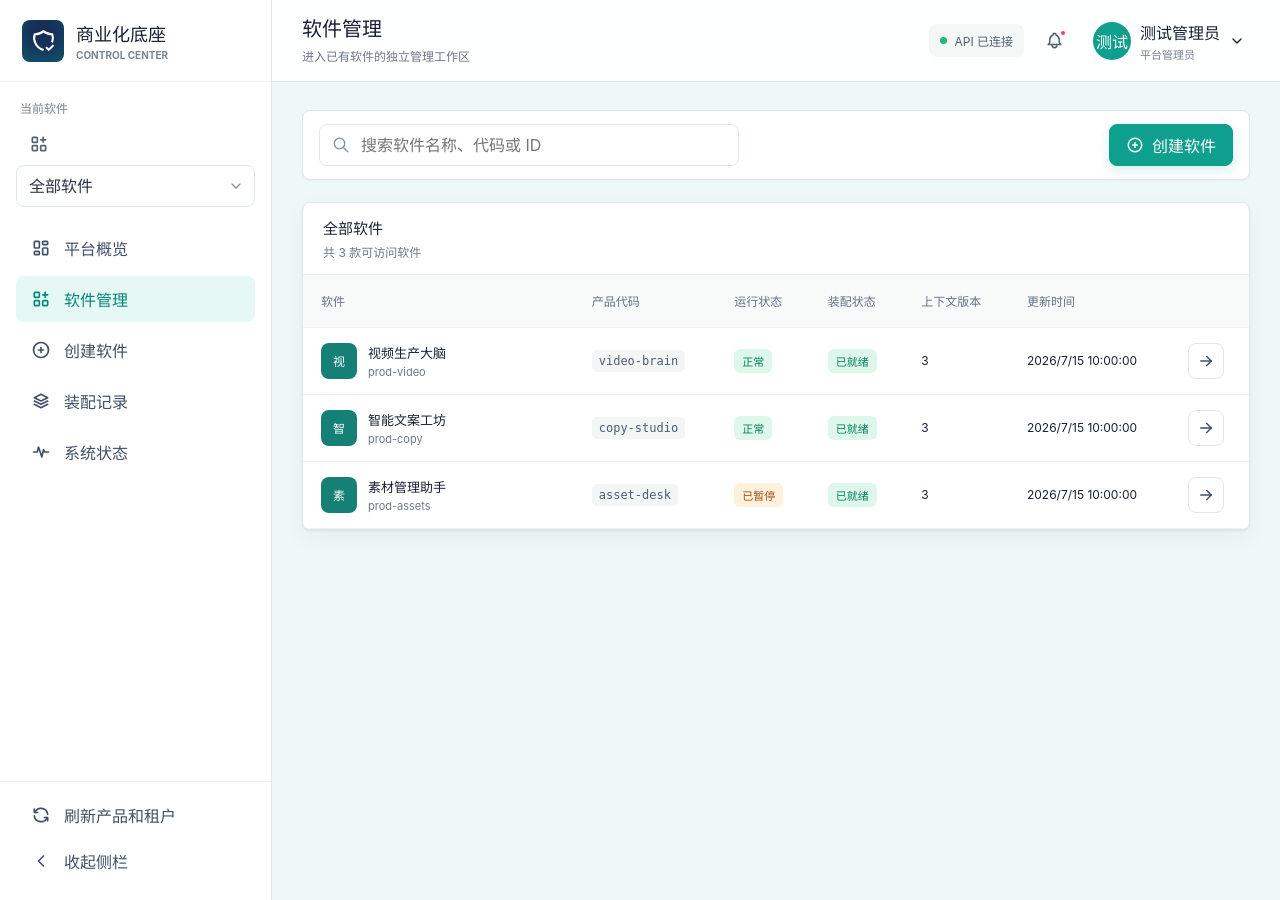
真实单款软件工作区 › 产品列表使用真实状态字段并可进入工作区
The image size is (1280, 900).
Expected: the heading "软件管理" is shown, x1=302 y1=17 x2=382 y2=41
Expected: the text "已就绪" is shown 3 times, x1=828 y1=348 x2=877 y2=372; x1=828 y1=416 x2=877 y2=440; x1=828 y1=482 x2=877 y2=506
What coordinates should you click on to do the following:
click the button named "进入 视频生产大脑 工作区"
I would click on:
 (1206, 360)
Its box is x1=1188 y1=342 x2=1224 y2=378.
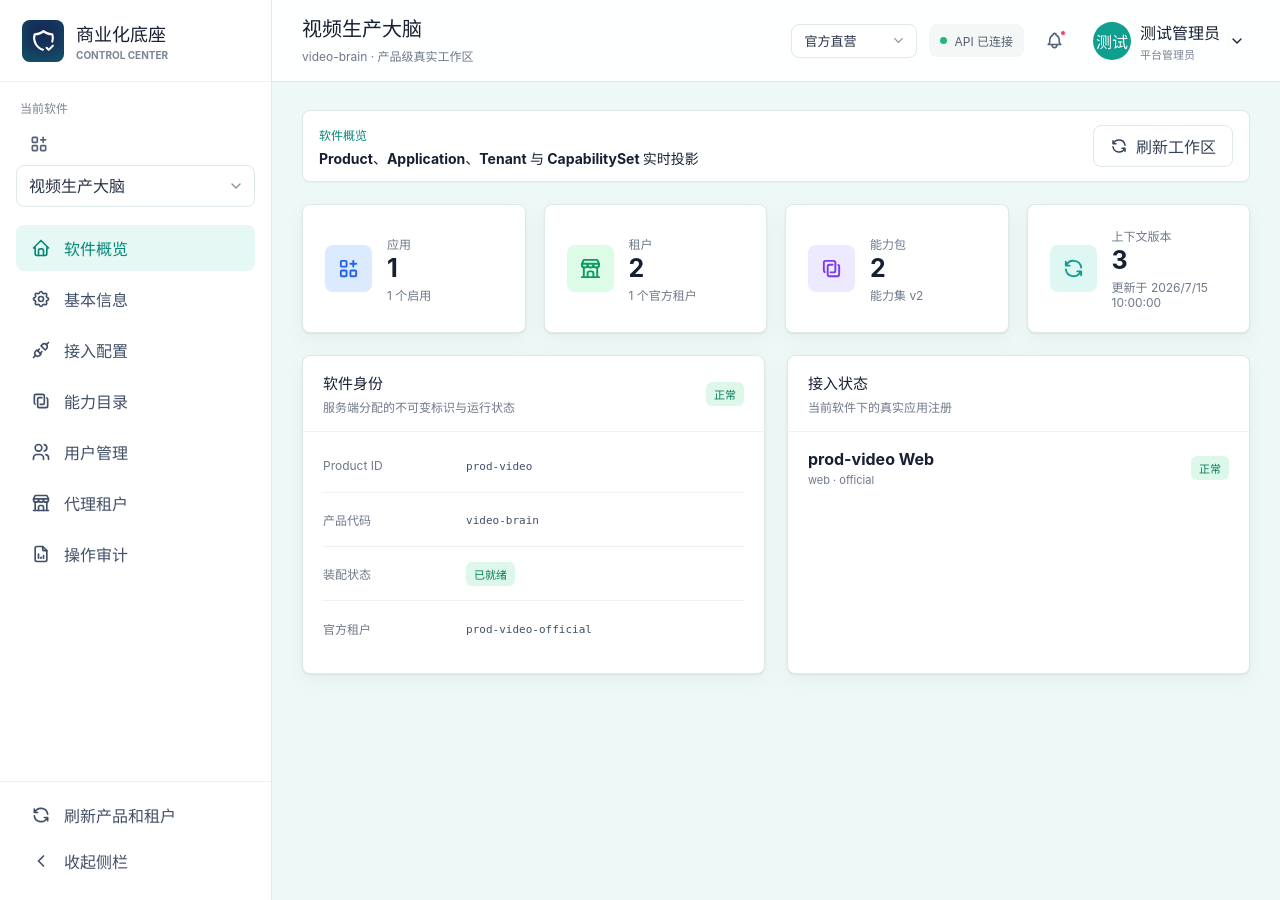
Now the heading "视频生产大脑" is shown, box x1=302 y1=17 x2=422 y2=41
